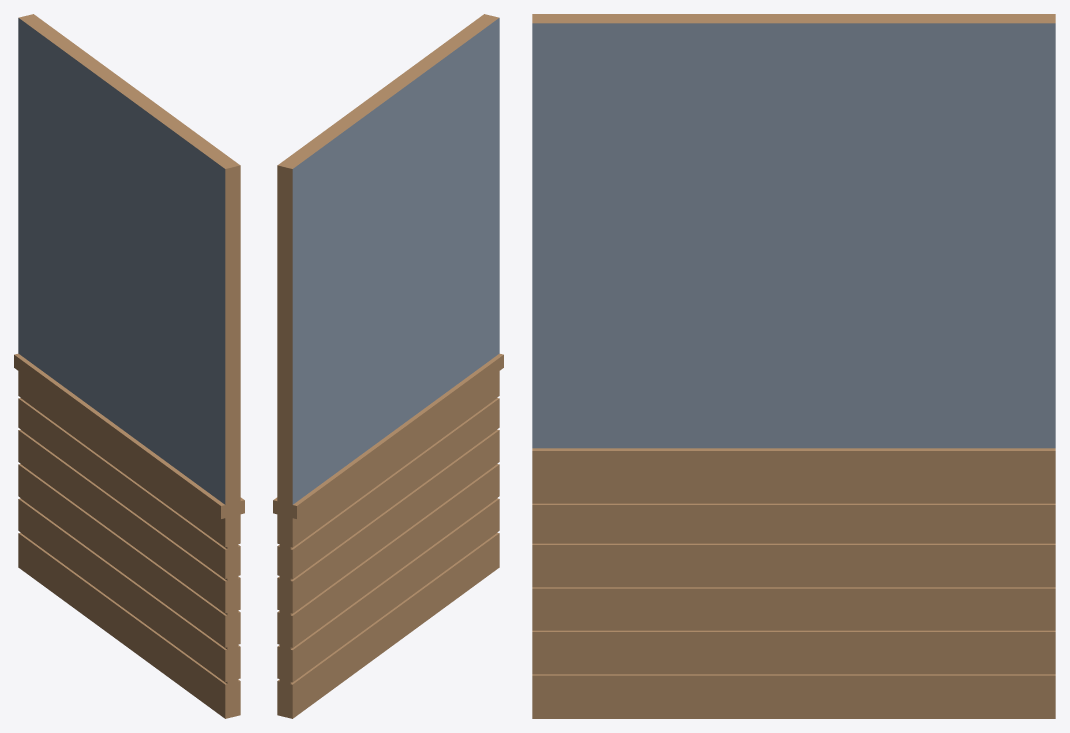
The model's file is Int. Small Wall.glb.
3 views of the same model, side by side, from view 1: azimuth 30°, elevation 25°; view 2: azimuth 150°, elevation 25°; view 3: azimuth 270°, elevation 25° (orthographic). The views are drawn at different scales.
Visible parts, largest first — view 1: Int. Small Wall; view 2: Int. Small Wall; view 3: Int. Small Wall.
Boxes of the visible parts, x1,y1,x2,y2 form: Int. Small Wall: (14, 14, 244, 718); Int. Small Wall: (273, 14, 503, 718); Int. Small Wall: (532, 14, 1055, 718).
Size of the model in its own units: 10 by 220 by 150.
